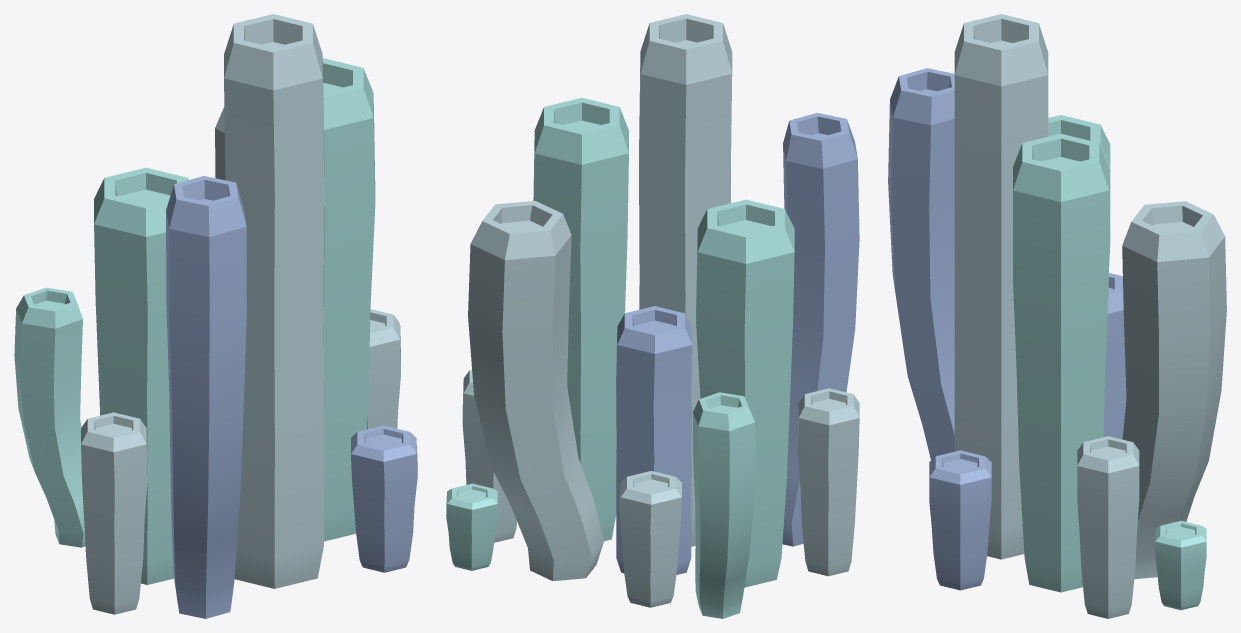
Rendered from coral1.fbx.
The picture shows the model from 3 angles, left to right: view 1: azimuth 30°, elevation 25°; view 2: azimuth 150°, elevation 25°; view 3: azimuth 270°, elevation 25°; orthographic projection. The views are drawn at different scales.
Visible parts, largest first — view 1: pCylinder96, pCylinder104, pCylinder97, pCylinder98, pCylinder101, pCylinder107, pCylinder105, pCylinder102, pCylinder100; view 2: pCylinder100, pCylinder98, pCylinder97, pCylinder96, pCylinder104, pCylinder99, pCylinder101, pCylinder107, pCylinder103, pCylinder106, pCylinder102; view 3: pCylinder98, pCylinder96, pCylinder100, pCylinder104, pCylinder102, pCylinder105, pCylinder106, pCylinder99, pCylinder97.
Part boxes in pixels (x1,y1,x2,y2): pCylinder96: (224, 14, 324, 588); pCylinder104: (166, 176, 246, 618); pCylinder97: (94, 167, 188, 584); pCylinder98: (322, 58, 375, 541); pCylinder101: (14, 287, 85, 547); pCylinder107: (81, 412, 147, 614); pCylinder105: (351, 425, 417, 572); pCylinder102: (367, 309, 400, 429); pCylinder100: (215, 107, 225, 179); pCylinder100: (468, 201, 603, 581); pCylinder98: (533, 97, 628, 541); pCylinder97: (696, 199, 794, 587); pCylinder96: (639, 14, 732, 546); pCylinder104: (782, 113, 859, 546); pCylinder99: (616, 306, 692, 574); pCylinder101: (693, 392, 755, 618); pCylinder107: (797, 388, 859, 576); pCylinder103: (620, 471, 681, 607); pCylinder106: (446, 483, 497, 570); pCylinder102: (462, 369, 516, 542); pCylinder98: (1013, 133, 1108, 592); pCylinder96: (954, 14, 1048, 559); pCylinder100: (1122, 201, 1226, 579); pCylinder104: (888, 68, 954, 459); pCylinder102: (1077, 436, 1139, 618); pCylinder105: (929, 450, 991, 590); pCylinder106: (1155, 521, 1206, 610); pCylinder99: (1103, 273, 1126, 439); pCylinder97: (1048, 115, 1110, 266).
Bounding box in the file's own units: 1.91 × 2.61 × 1.58.
